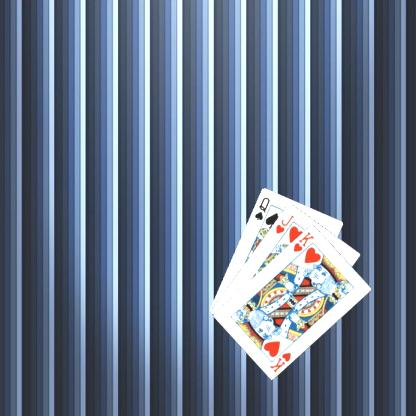JH: (273, 212, 295, 235)
KH: (290, 228, 315, 253), (266, 350, 292, 374)
QS: (252, 194, 271, 222)
